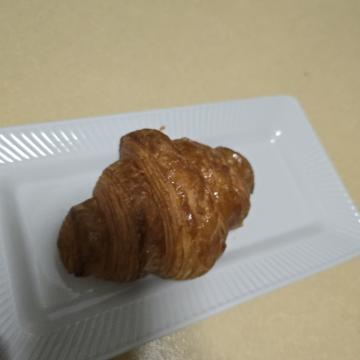croissant: (119, 94, 298, 310)
